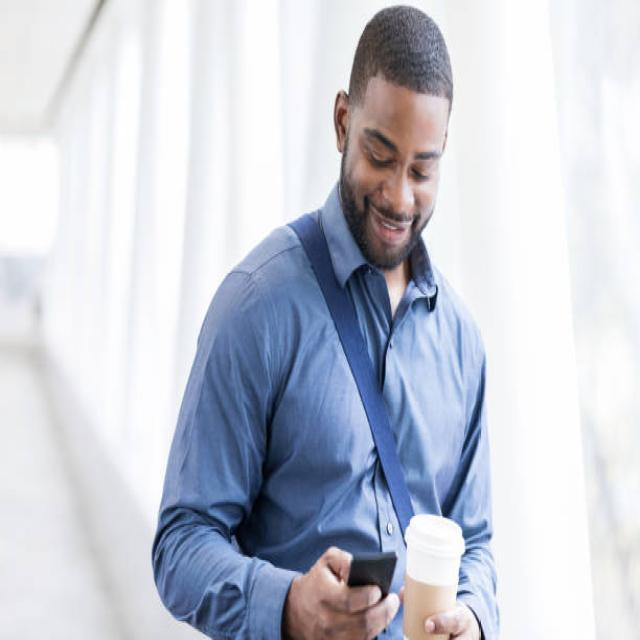Phone use: (150, 3, 503, 636)
